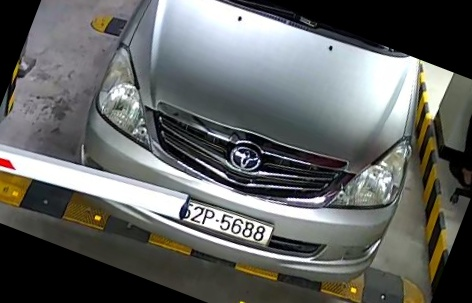plate: (179, 195, 277, 253)
